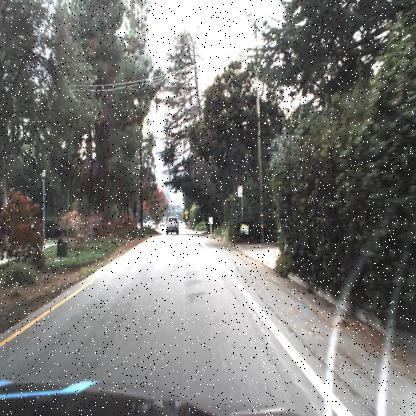car: (164, 214, 180, 236)
